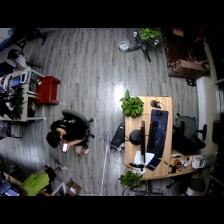normal: (17, 161, 67, 201), (43, 118, 88, 157), (7, 50, 26, 73)
